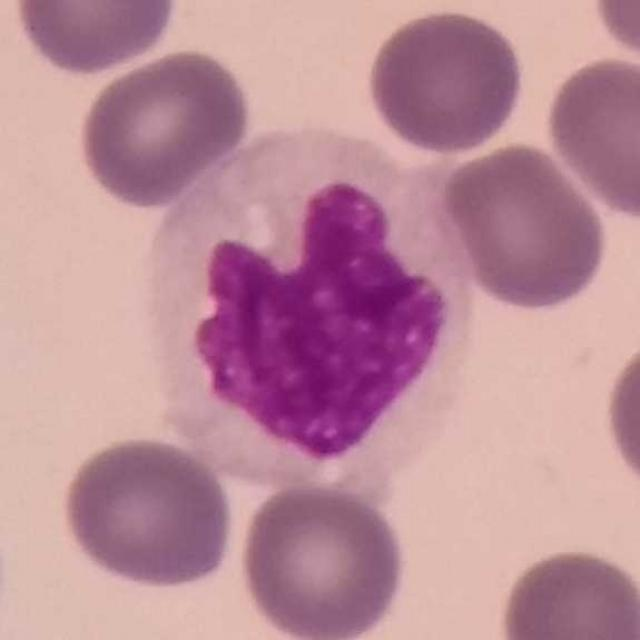mono: (136, 127, 493, 498)
